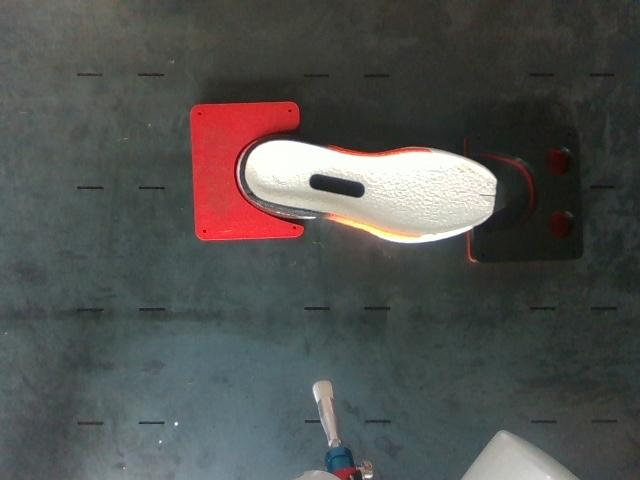shoes: (244, 139, 510, 236)
